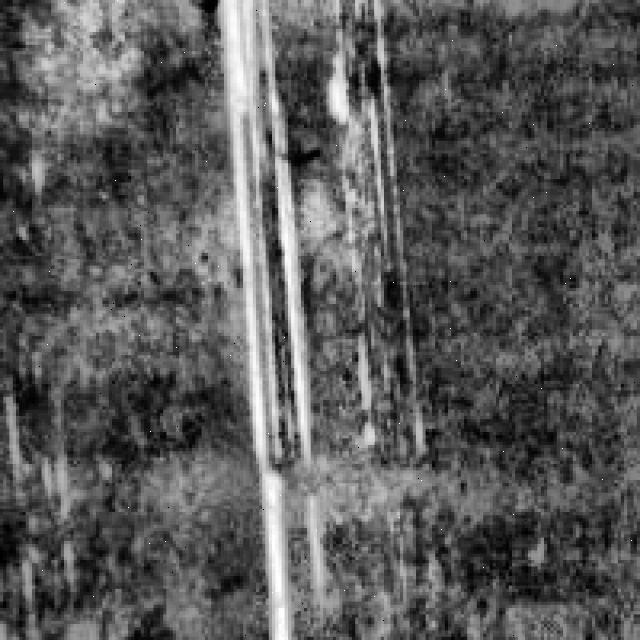Inclusion: (224, 0, 323, 634), (330, 19, 410, 189)
